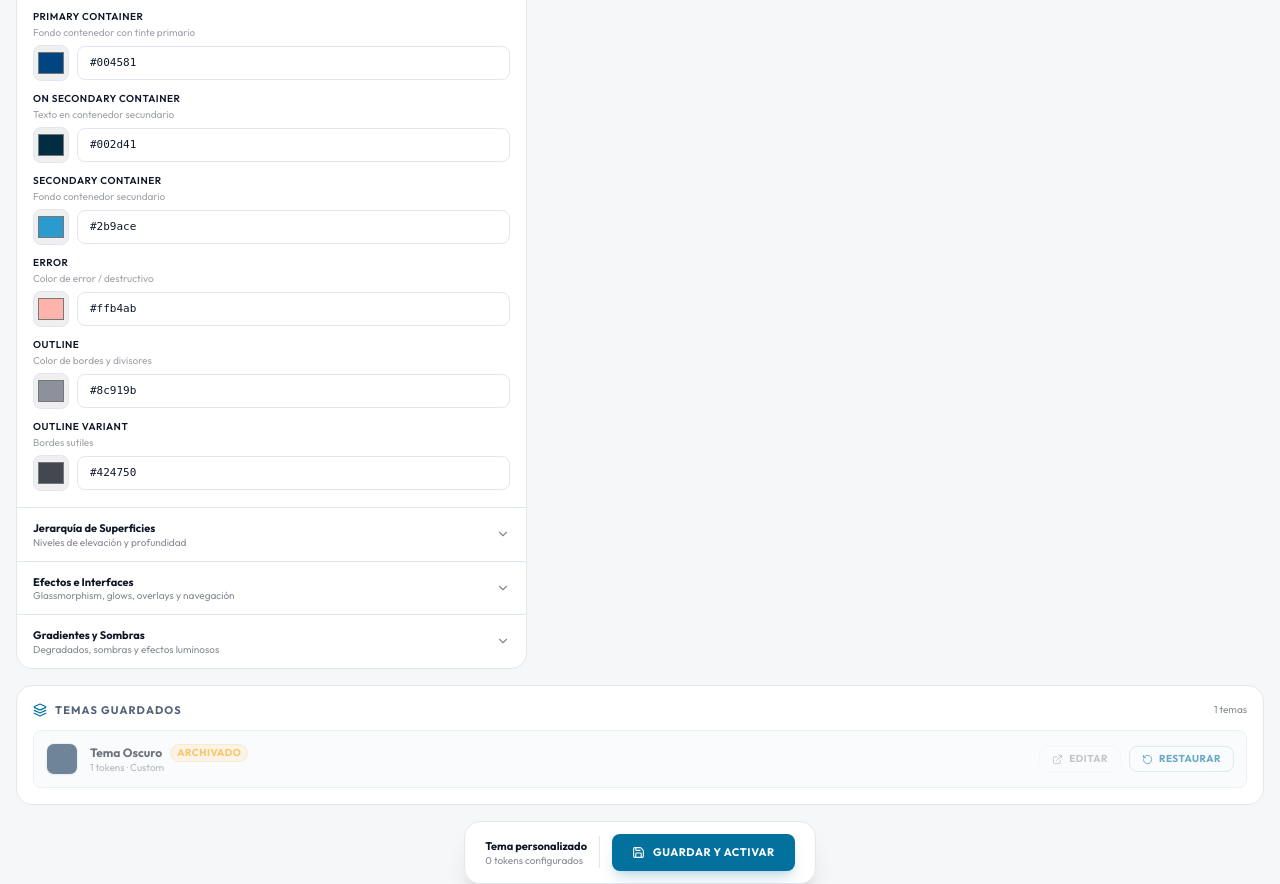
Test: CmsThemesPage › restaura un tema archivado
(page scrolled)
Check: the text "Tema Oscuro" is shown, box left=90, top=745, right=162, bottom=760
Click the button "Restaurar" at (1182, 759), box left=1129, top=746, right=1234, bottom=772
(page scrolled)
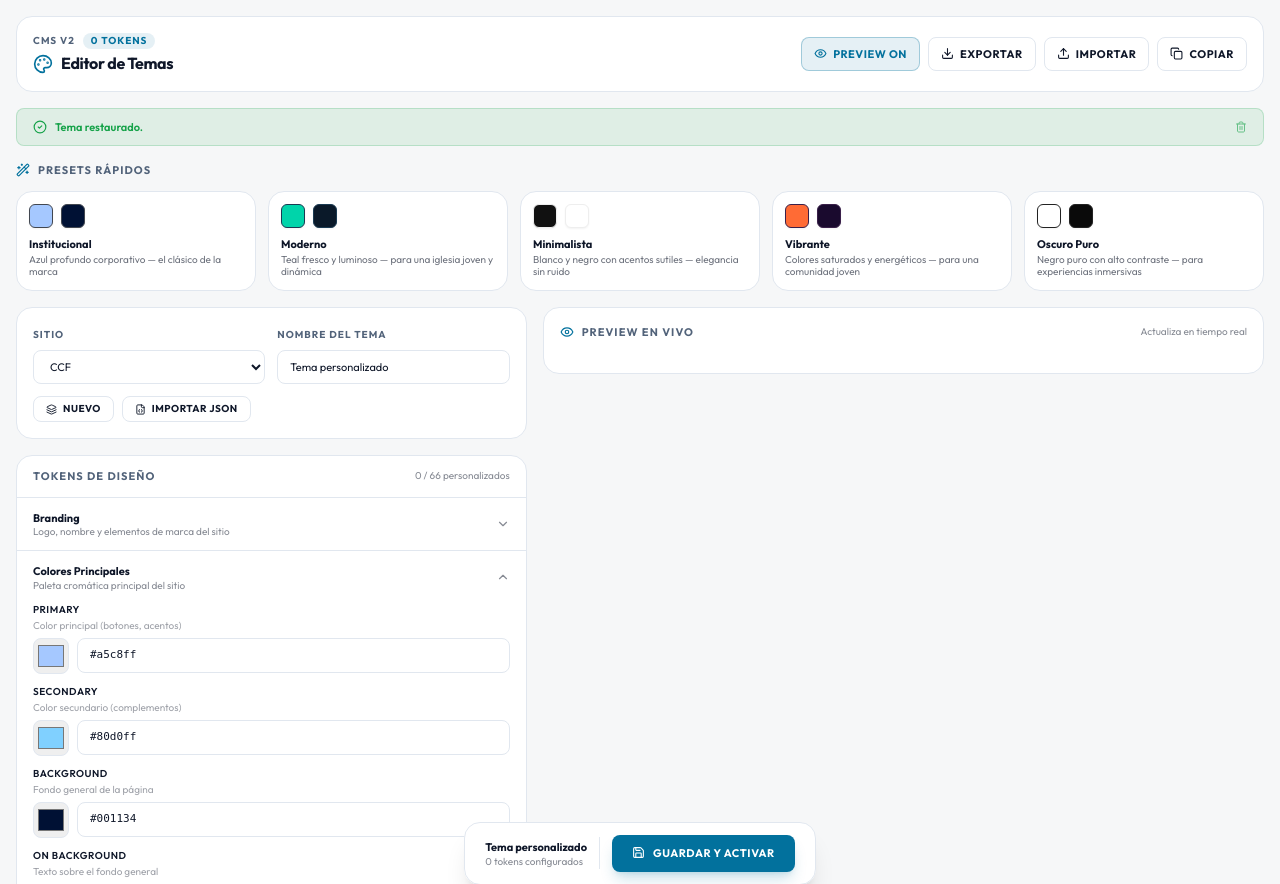
Check: the text "Tema restaurado." is shown, box left=16, top=108, right=1264, bottom=146
